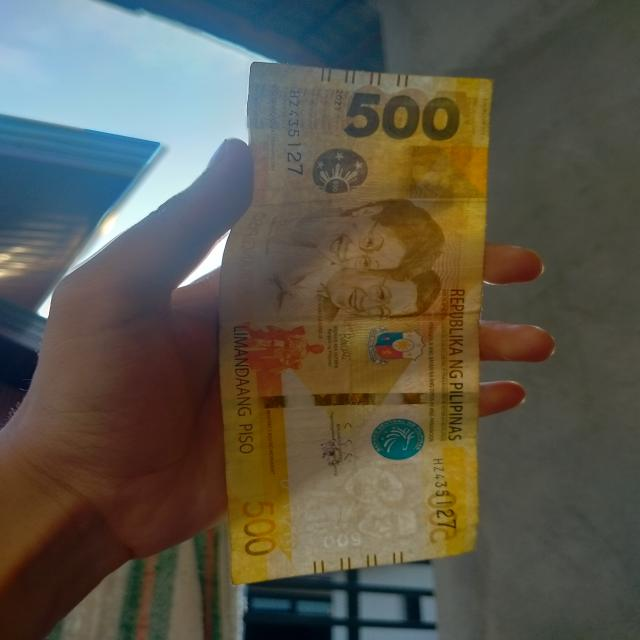concealed_value: (405, 142, 487, 202)
optically_variable_device: (301, 138, 376, 207)
security_thread: (223, 389, 475, 408)
see_through_mark: (271, 468, 302, 556)
value_watermark: (318, 527, 367, 551)
watermark: (288, 458, 436, 551)
